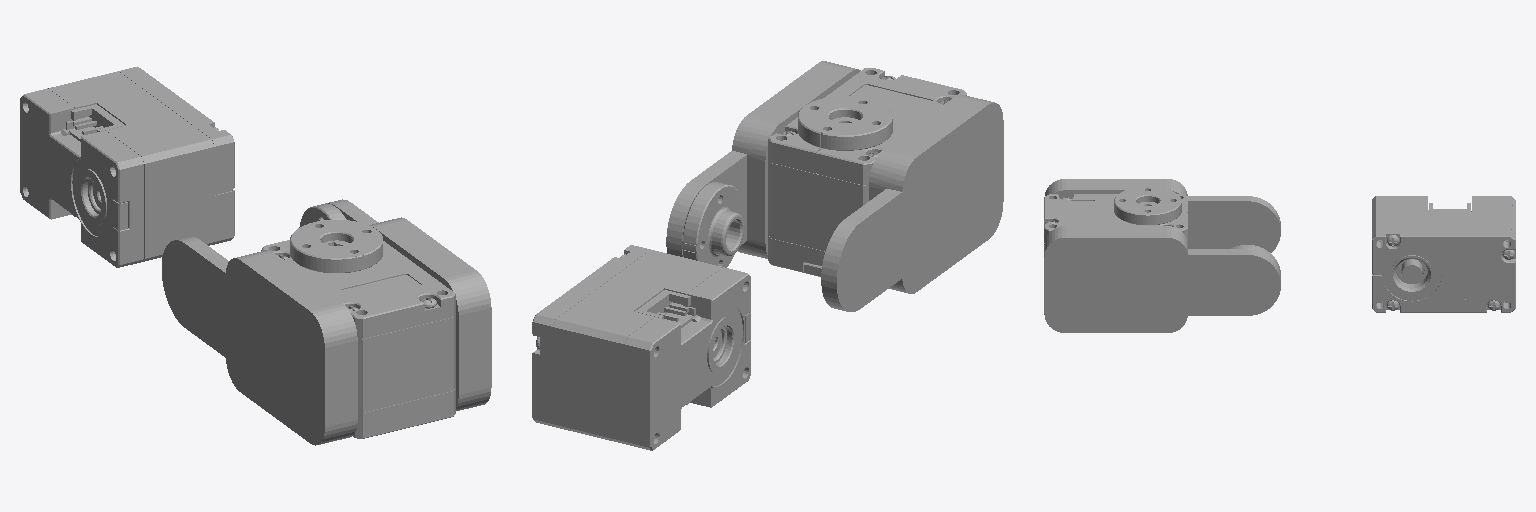
URDF robot description (URDF_finger_ssss):
<?xml version="1.0" ?>
<robot name="URDF_finger_ssss" xmlns:xacro="http://www.ros.org/wiki/xacro">

<link name="base_link">
  <inertial>
    <origin xyz="5.810609836920757e-14 -3.5557377263056094e-06 0.004698273696031688" rpy="0 0 0"/>
    <mass value="0.004531103214243681"/>
    <inertia ixx="0.0" iyy="0.0" izz="0.0" ixy="-0.0" iyz="-0.0" ixz="-0.0"/>
  </inertial>
  <visual>
    <origin xyz="0 0 0" rpy="0 0 0"/>
    <geometry>
      <mesh filename="package://shortest/meshes/base_link.stl" scale="0.001 0.001 0.001"/>
    </geometry>
    <material name="silver">
        <color rgba="0.7 0.7 0.7 1"/>
      </material>
  </visual>
  <collision>
    <origin xyz="0 0 0" rpy="0 0 0"/>
    <geometry>
      <mesh filename="package://shortest/meshes/base_link.stl" scale="0.001 0.001 0.001"/>
    </geometry>
  </collision>
</link>

<link name="MCP_spread_motor_1">
  <inertial>
    <origin xyz="4.40257654920099e-06 -0.0075382982459979535 -0.011349379478781948" rpy="0 0 0"/>
    <mass value="0.11379089624899982"/>
    <inertia ixx="1.6e-05" iyy="8e-06" izz="1.5e-05" ixy="0.0" iyz="0.0" ixz="-0.0"/>
  </inertial>
  <visual>
    <origin xyz="-0.0 0.0 -0.0036" rpy="0 0 0"/>
    <geometry>
      <mesh filename="package://shortest/meshes/MCP_spread_motor_1.stl" scale="0.001 0.001 0.001"/>
    </geometry>
    <material name="silver">
        <color rgba="0.7 0.7 0.7 1"/>
      </material>
  </visual>
  <collision>
    <origin xyz="-0.0 0.0 -0.0036" rpy="0 0 0"/>
    <geometry>
      <mesh filename="package://shortest/meshes/MCP_spread_motor_1.stl" scale="0.001 0.001 0.001"/>
    </geometry>
  </collision>
</link>

<link name="MCP_motor_1">
  <inertial>
    <origin xyz="-0.011349379464972085 0.0075382982462910975 4.402565036953562e-06" rpy="0 0 0"/>
    <mass value="0.11379089638693088"/>
    <inertia ixx="1.5e-05" iyy="8e-06" izz="1.6e-05" ixy="-0.0" iyz="-0.0" ixz="-0.0"/>
  </inertial>
  <visual>
    <origin xyz="-0.0106 -0.0235 0.008" rpy="0 0 0"/>
    <geometry>
      <mesh filename="package://shortest/meshes/MCP_motor_1.stl" scale="0.001 0.001 0.001"/>
    </geometry>
    <material name="silver">
        <color rgba="0.7 0.7 0.7 1"/>
      </material>
  </visual>
  <collision>
    <origin xyz="-0.0106 -0.0235 0.008" rpy="0 0 0"/>
    <geometry>
      <mesh filename="package://shortest/meshes/MCP_motor_1.stl" scale="0.001 0.001 0.001"/>
    </geometry>
  </collision>
</link>

<link name="proximal_1">
  <inertial>
    <origin xyz="-0.007236862961978075 0.027666892539839255 -4.565792188770956e-15" rpy="0 0 0"/>
    <mass value="0.03768293771588789"/>
    <inertia ixx="5e-06" iyy="8e-06" izz="1.1e-05" ixy="0.0" iyz="-0.0" ixz="-0.0"/>
  </inertial>
  <visual>
    <origin xyz="-0.0105 -0.0235 0.008" rpy="0 0 0"/>
    <geometry>
      <mesh filename="package://shortest/meshes/proximal_1.stl" scale="0.001 0.001 0.001"/>
    </geometry>
    <material name="silver">
        <color rgba="0.7 0.7 0.7 1"/>
      </material>
  </visual>
  <collision>
    <origin xyz="-0.0105 -0.0235 0.008" rpy="0 0 0"/>
    <geometry>
      <mesh filename="package://shortest/meshes/proximal_1.stl" scale="0.001 0.001 0.001"/>
    </geometry>
  </collision>
</link>

<link name="PIP_DIP_motor_1">
  <inertial>
    <origin xyz="-0.011349379464972083 0.007538298246842587 4.402565036979583e-06" rpy="0 0 0"/>
    <mass value="0.11379089638693098"/>
    <inertia ixx="1.5e-05" iyy="8e-06" izz="1.6e-05" ixy="-0.0" iyz="-0.0" ixz="-0.0"/>
  </inertial>
  <visual>
    <origin xyz="-0.0106 -0.0625 0.008" rpy="0 0 0"/>
    <geometry>
      <mesh filename="package://shortest/meshes/PIP_DIP_motor_1.stl" scale="0.001 0.001 0.001"/>
    </geometry>
    <material name="silver">
        <color rgba="0.7 0.7 0.7 1"/>
      </material>
  </visual>
  <collision>
    <origin xyz="-0.0106 -0.0625 0.008" rpy="0 0 0"/>
    <geometry>
      <mesh filename="package://shortest/meshes/PIP_DIP_motor_1.stl" scale="0.001 0.001 0.001"/>
    </geometry>
  </collision>
</link>

<link name="middle_1">
  <inertial>
    <origin xyz="-0.007884360620471112 0.022545172845046313 0.0" rpy="0 0 0"/>
    <mass value="0.026746234501644296"/>
    <inertia ixx="2e-06" iyy="6e-06" izz="7e-06" ixy="0.0" iyz="0.0" ixz="-0.0"/>
  </inertial>
  <visual>
    <origin xyz="-0.0105 -0.0625 0.008" rpy="0 0 0"/>
    <geometry>
      <mesh filename="package://shortest/meshes/middle_1.stl" scale="0.001 0.001 0.001"/>
    </geometry>
    <material name="silver">
        <color rgba="0.7 0.7 0.7 1"/>
      </material>
  </visual>
  <collision>
    <origin xyz="-0.0105 -0.0625 0.008" rpy="0 0 0"/>
    <geometry>
      <mesh filename="package://shortest/meshes/middle_1.stl" scale="0.001 0.001 0.001"/>
    </geometry>
  </collision>
</link>

<link name="distal_1">
  <inertial>
    <origin xyz="-0.013500000000000002 0.016749645936636748 3.469446951953614e-18" rpy="0 0 0"/>
    <mass value="0.11248722366134255"/>
    <inertia ixx="1.7e-05" iyy="8e-06" izz="1.8e-05" ixy="0.0" iyz="0.0" ixz="-0.0"/>
  </inertial>
  <visual>
    <origin xyz="-0.0135 -0.093 0.008" rpy="0 0 0"/>
    <geometry>
      <mesh filename="package://shortest/meshes/distal_1.stl" scale="0.001 0.001 0.001"/>
    </geometry>
    <material name="silver">
        <color rgba="0.7 0.7 0.7 1"/>
      </material>
  </visual>
  <collision>
    <origin xyz="-0.0135 -0.093 0.008" rpy="0 0 0"/>
    <geometry>
      <mesh filename="package://shortest/meshes/distal_1.stl" scale="0.001 0.001 0.001"/>
    </geometry>
  </collision>
</link>

<link name="metacarpal_1">
  <inertial>
    <origin xyz="0.000507870018372718 -0.0021674150680712355 -0.011500000000001617" rpy="0 0 0"/>
    <mass value="0.1043693930100677"/>
    <inertia ixx="2.6e-05" iyy="2.4e-05" izz="4e-05" ixy="-1e-06" iyz="-0.0" ixz="-0.0"/>
  </inertial>
  <visual>
    <origin xyz="-0.0 -0.0 -0.0035" rpy="0 0 0"/>
    <geometry>
      <mesh filename="package://shortest/meshes/metacarpal_1.stl" scale="0.001 0.001 0.001"/>
    </geometry>
    <material name="silver">
        <color rgba="0.7 0.7 0.7 1"/>
      </material>
  </visual>
  <collision>
    <origin xyz="-0.0 -0.0 -0.0035" rpy="0 0 0"/>
    <geometry>
      <mesh filename="package://shortest/meshes/metacarpal_1.stl" scale="0.001 0.001 0.001"/>
    </geometry>
  </collision>
</link>

<joint name="MCP_spread" type="continuous">
  <origin xyz="0.0 0.0 0.0036" rpy="0 0 0"/>
  <parent link="base_link"/>
  <child link="MCP_spread_motor_1"/>
  <axis xyz="0.0 0.0 -1.0"/>
</joint>

<joint name="MCP" type="continuous">
  <origin xyz="0.0106 0.0235 -0.0115" rpy="0 0 0"/>
  <parent link="metacarpal_1"/>
  <child link="MCP_motor_1"/>
  <axis xyz="-1.0 -0.0 -0.0"/>
</joint>

<joint name="Proximal_to_motor" type="fixed">
  <origin xyz="-0.0001 0.0 0.0" rpy="0 0 0"/>
  <parent link="MCP_motor_1"/>
  <child link="proximal_1"/>
</joint>

<joint name="PIP" type="continuous">
  <origin xyz="0.0001 0.039 0.0" rpy="0 0 0"/>
  <parent link="proximal_1"/>
  <child link="PIP_DIP_motor_1"/>
  <axis xyz="-1.0 -0.0 0.0"/>
</joint>

<joint name="Middle_to_motor" type="fixed">
  <origin xyz="-0.0001 0.0 0.0" rpy="0 0 0"/>
  <parent link="PIP_DIP_motor_1"/>
  <child link="middle_1"/>
</joint>

<joint name="DIP" type="continuous">
  <origin xyz="0.003 0.0305 0.0" rpy="0 0 0"/>
  <parent link="middle_1"/>
  <child link="distal_1"/>
  <axis xyz="1.0 0.0 -0.0"/>
</joint>

<joint name="Metacarpal_to_motor" type="fixed">
  <origin xyz="0.0 0.0 -0.0001" rpy="0 0 0"/>
  <parent link="MCP_spread_motor_1"/>
  <child link="metacarpal_1"/>
</joint>

</robot>

--- What the picture shows (computed from the rendered views, not written in the file) ---
3 views of the same robot in one strip: view 1: azimuth 30°, elevation 25°; view 2: azimuth 150°, elevation 25°; view 3: azimuth 270°, elevation 25° (orthographic).
Model URDF_finger_ssss with 8 links and 7 joints (4 continuous, 3 fixed), rooted at base_link, posed every joint at zero.
Links seen in each view (by area): view 1: metacarpal_1, PIP_DIP_motor_1, MCP_spread_motor_1, base_link; view 2: metacarpal_1, PIP_DIP_motor_1, MCP_spread_motor_1, base_link; view 3: metacarpal_1, PIP_DIP_motor_1, MCP_spread_motor_1, base_link.
Boxes of the visible links, <box> form: metacarpal_1: <box>162,199,491,445</box>; PIP_DIP_motor_1: <box>20,67,234,267</box>; MCP_spread_motor_1: <box>261,240,455,438</box>; base_link: <box>290,220,382,272</box>; metacarpal_1: <box>666,61,1003,311</box>; PIP_DIP_motor_1: <box>532,245,750,450</box>; MCP_spread_motor_1: <box>768,68,966,276</box>; base_link: <box>798,96,892,150</box>; metacarpal_1: <box>1044,179,1280,332</box>; PIP_DIP_motor_1: <box>1372,196,1515,312</box>; MCP_spread_motor_1: <box>1044,194,1187,314</box>; base_link: <box>1114,187,1181,224</box>.
Size in the robot's own frame: 0.033 by 0.1115 by 0.027 metres.
4 mesh visuals loaded from 8 distinct referenced files (4 binary STL); not drawn: 4 (reference not matched to a file when rendering).